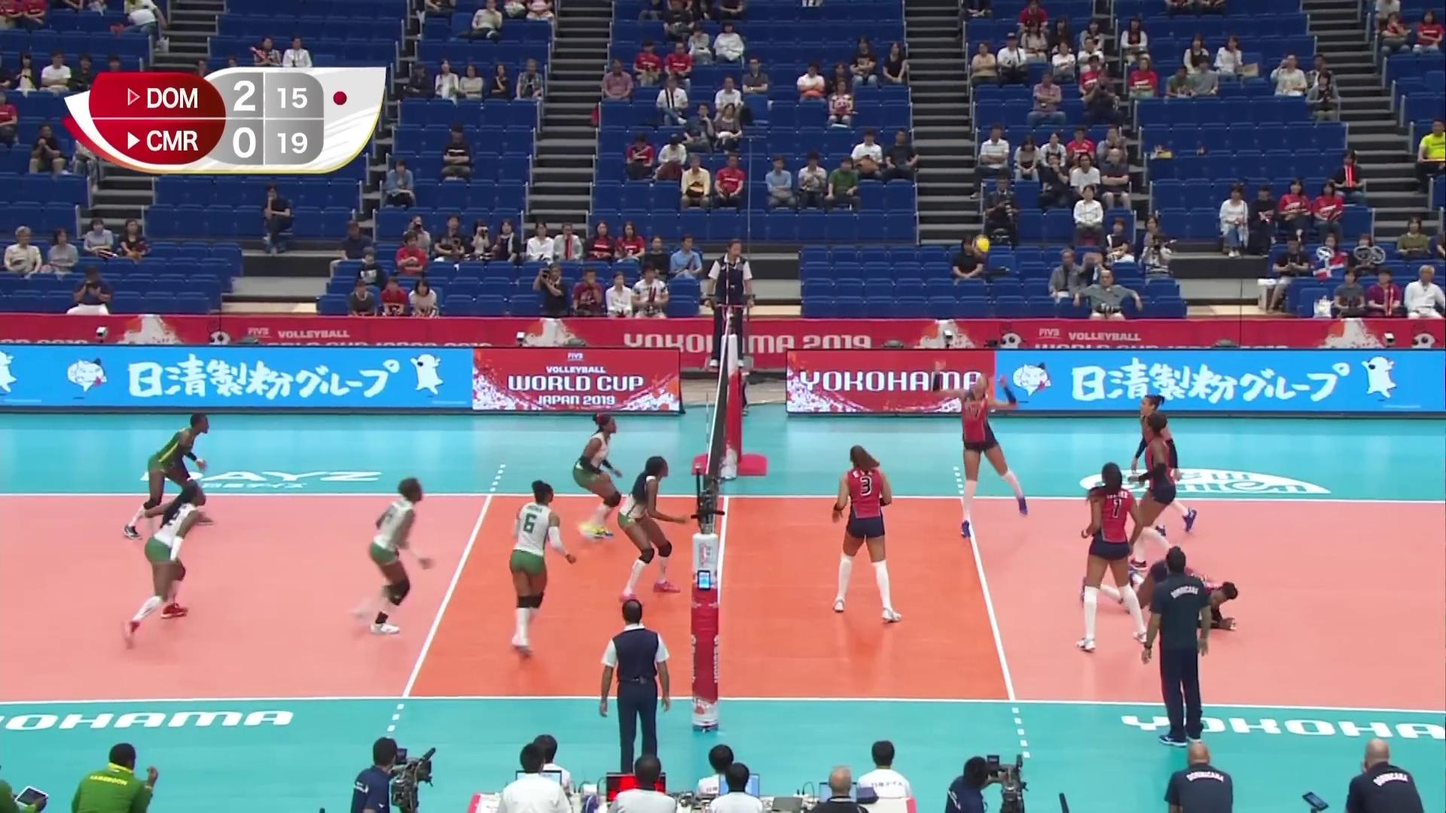player: (934, 364, 1027, 538), (124, 485, 204, 645), (1081, 462, 1145, 653), (829, 448, 898, 623), (353, 479, 430, 633), (507, 480, 568, 658), (1080, 565, 1238, 631), (1127, 393, 1196, 535), (130, 415, 212, 532), (616, 456, 683, 596), (1131, 417, 1179, 564), (574, 413, 624, 543)
refree: (602, 604, 673, 766), (707, 239, 753, 369)
